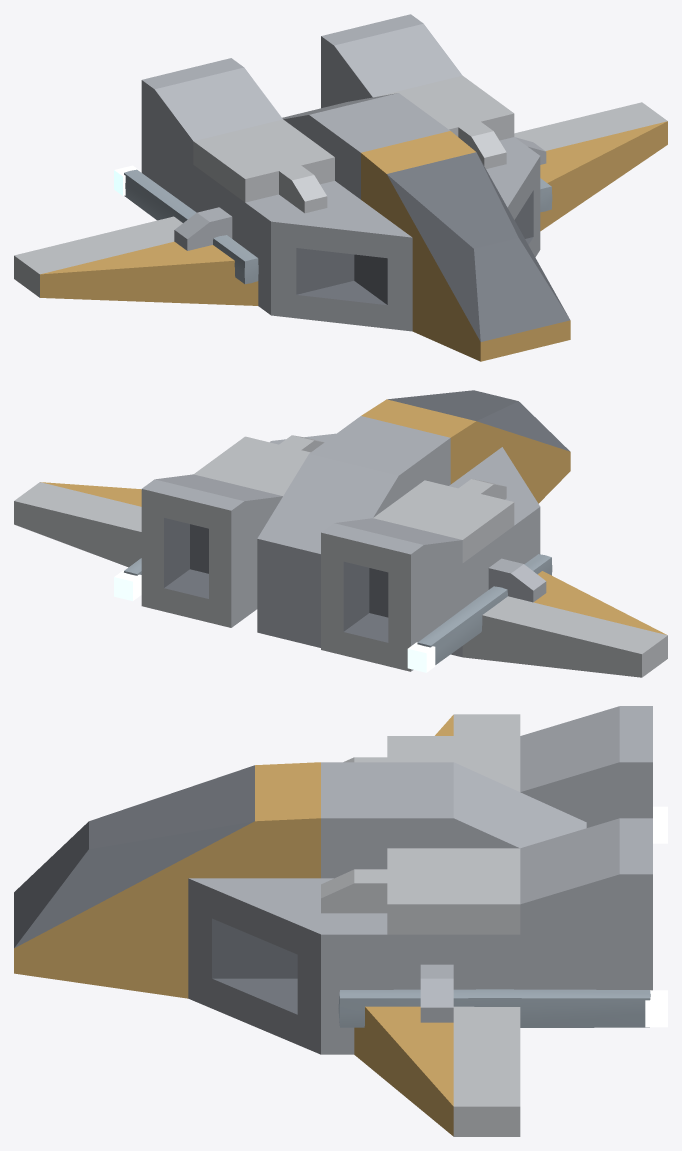
File: npc_patrol.glb
3 renders of one model, top to bottom at view 1: azimuth 30°, elevation 25°; view 2: azimuth 150°, elevation 25°; view 3: azimuth 270°, elevation 25°, orthographic. The views are drawn at different scales.
Parts seen in each view (by area): view 1: npc_patrol; view 2: npc_patrol; view 3: npc_patrol.
Boxes of the visible parts, x1,y1,x2,y2 form: npc_patrol: [14, 14, 667, 361]; npc_patrol: [14, 390, 667, 677]; npc_patrol: [14, 706, 667, 1136].
Bounding box in the file's own units: 1.84 × 0.3942 × 1.3.
